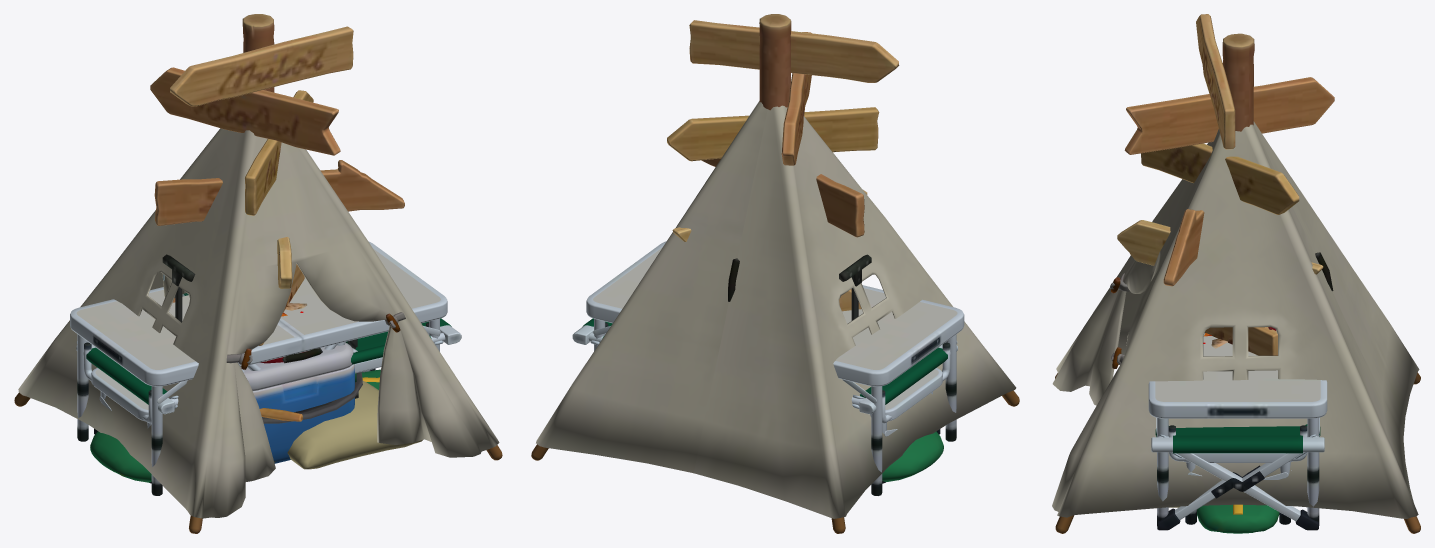
The model's file is camp.glb.
3 renders of one model, left to right at view 1: azimuth 30°, elevation 25°; view 2: azimuth 150°, elevation 25°; view 3: azimuth 270°, elevation 25°, orthographic.
Parts seen in each view (by area): view 1: mReBody (×8), mReFabric, mBody; view 2: mReBody (×7), mReFabric; view 3: mReBody (×7), mReFabric.
Part boxes in pixels (left/top/right/bottom): mReBody (×8): left=14, top=14, right=502, bottom=533; mReFabric: left=76, top=249, right=440, bottom=369; mBody: left=259, top=372, right=362, bottom=423; mReBody (×7): left=531, top=14, right=1019, bottom=533; mReFabric: left=593, top=247, right=957, bottom=369; mReBody (×7): left=1052, top=14, right=1420, bottom=533; mReFabric: left=1155, top=333, right=1320, bottom=401.
Bounding box in the file's own units: 18.94 × 23.57 × 18.93.
30 materials, 29 textured.
